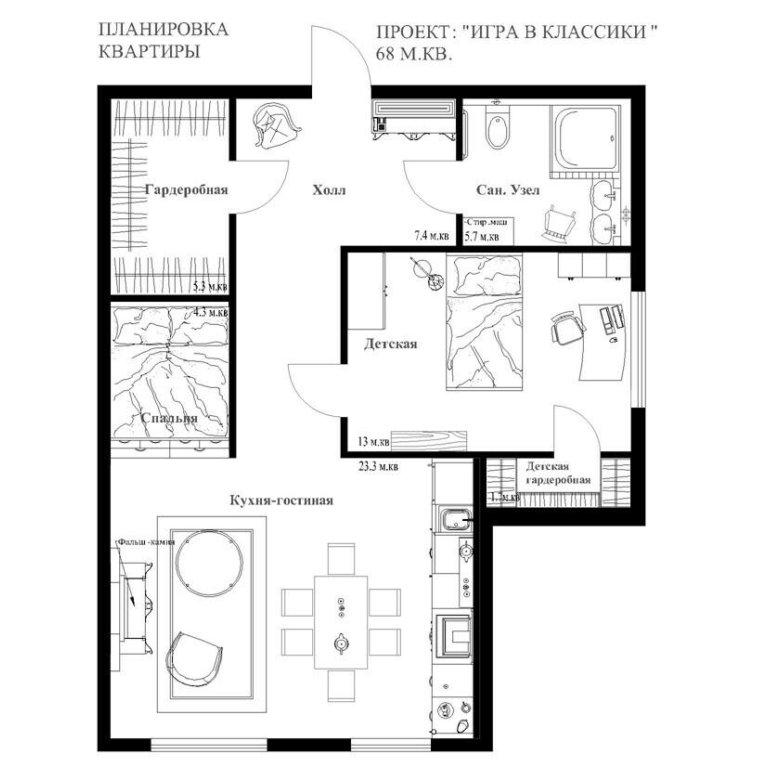bathroom: (463, 98, 630, 245)
bedroom: (110, 302, 229, 458)
children_room: (347, 252, 632, 452)
hallway: (237, 98, 456, 458)
kitchen: (110, 459, 475, 738), (486, 458, 631, 507)
walk_in_closet: (109, 96, 230, 296)
